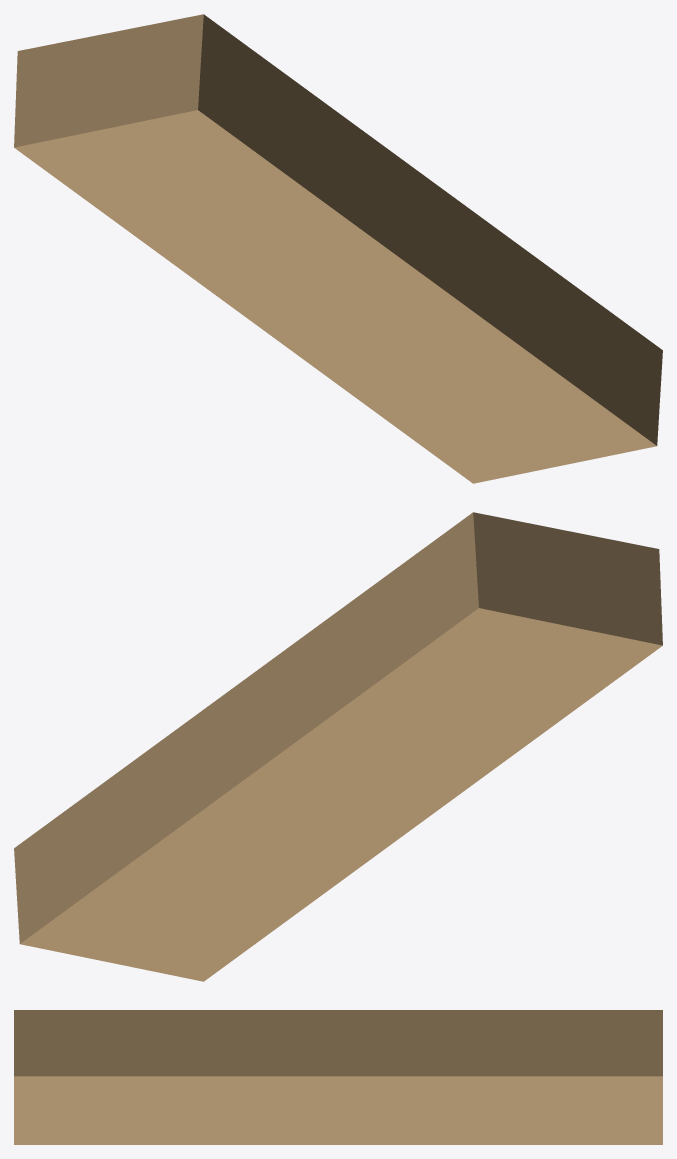
3 renders of one model, top to bottom at view 1: azimuth 30°, elevation 25°; view 2: azimuth 150°, elevation 25°; view 3: azimuth 270°, elevation 25°, orthographic. The views are drawn at different scales.
Visible parts, largest first — view 1: 0_2_3_2_3_3_2_3_1_3_3; view 2: 0_2_3_2_3_3_2_3_1_3_3; view 3: 0_2_3_2_3_3_2_3_1_3_3.
Part boxes in pixels (x1,y1,x2,y2): 0_2_3_2_3_3_2_3_1_3_3: [14, 14, 662, 483]; 0_2_3_2_3_3_2_3_1_3_3: [14, 512, 662, 981]; 0_2_3_2_3_3_2_3_1_3_3: [14, 1010, 662, 1144].
Bounding box in the file's own units: 6.44 × 3.34 × 27.
